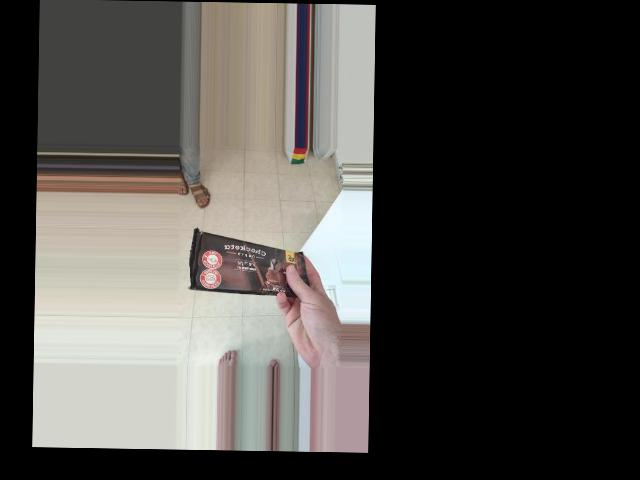chocolate: (186, 226, 307, 307)
